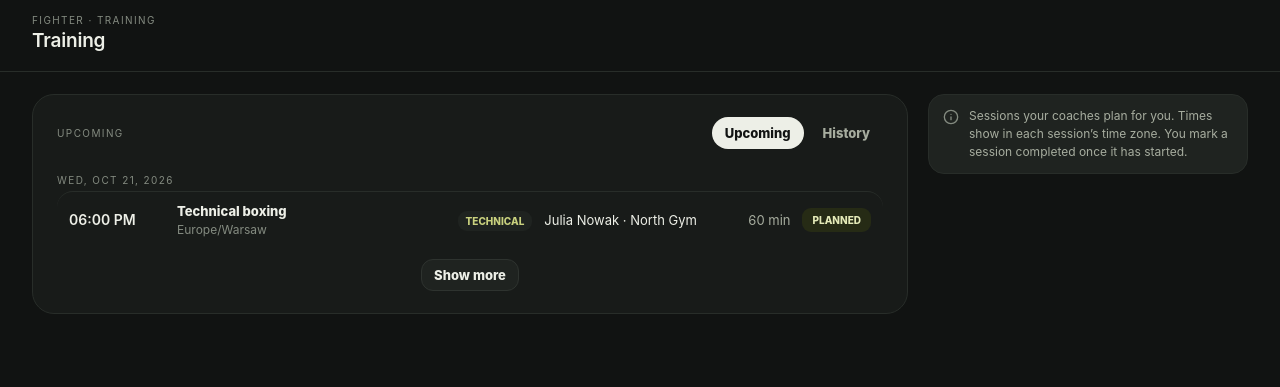
FighterTraining (WFT1) › pages with the backend's cursor and keeps the list when a page fails
Click the button "Show more".
click(470, 275)  # box [421,259,519,291]
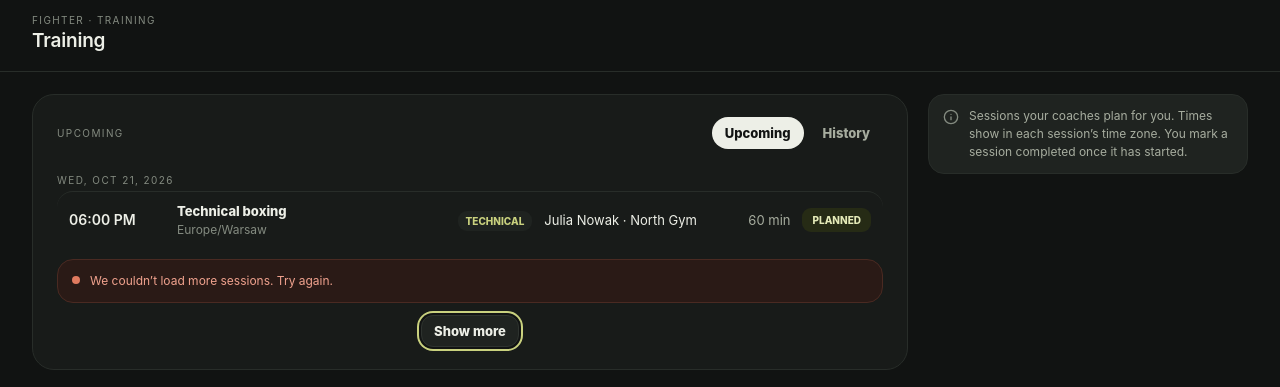
Expected: the link "Technical boxing" is shown, [177,202,287,218]
Expected: the message reads "We couldn’t load more sessions. Try again.", [90,273,333,288]
Click the button "Show more".
click(470, 331)  # box [421,315,519,347]
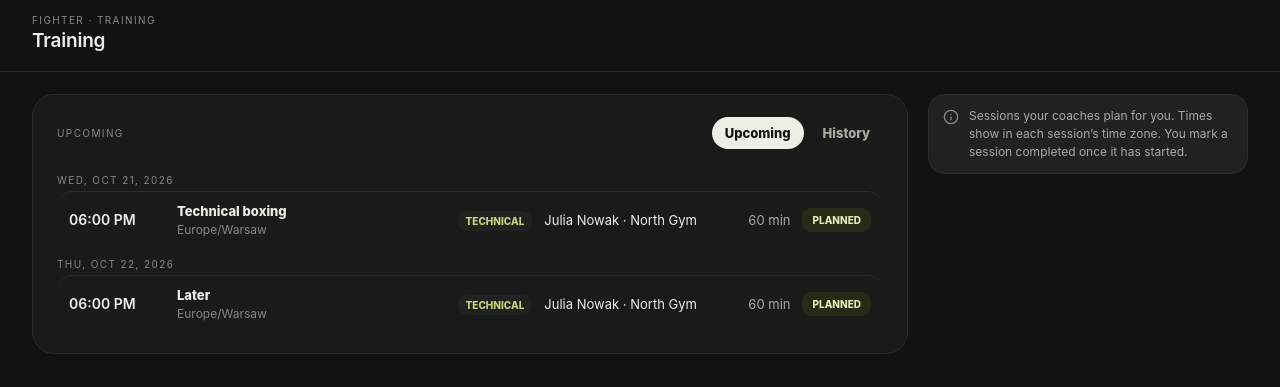
Expected: the link "Later" is shown, [177,286,210,302]
Expected: the button "Show more" is gone
